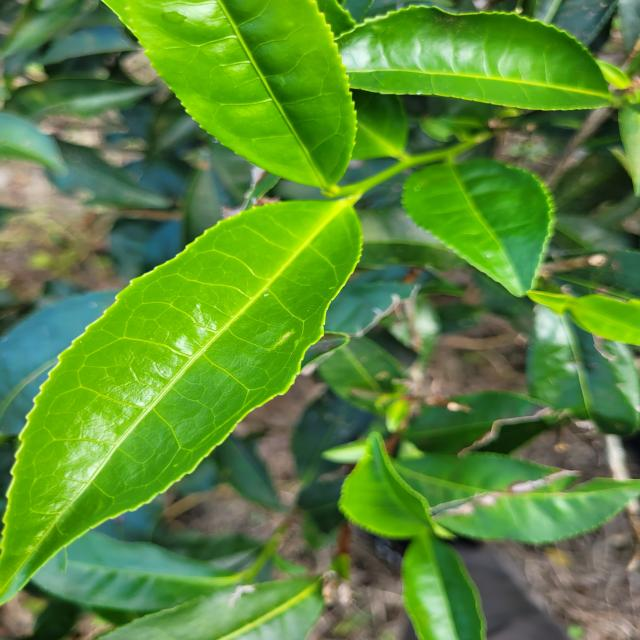Category B(2-4 days): (1, 172, 420, 614)
